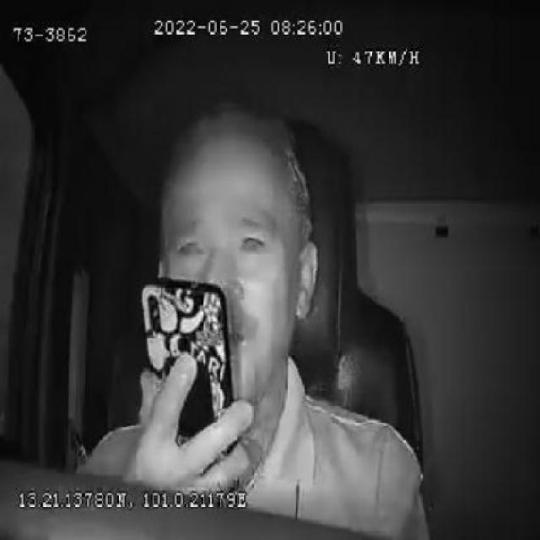phone: (142, 278, 235, 492)
